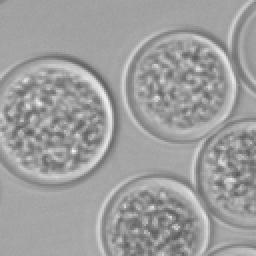picoshell: (2, 56, 114, 184), (120, 30, 236, 140), (96, 174, 208, 254), (190, 120, 254, 226), (226, 0, 254, 94), (208, 242, 254, 254)
